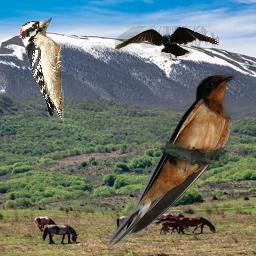Crow: (115, 26, 219, 62)
Swallow: (103, 70, 239, 248)
Woodpecker: (19, 18, 65, 121)
